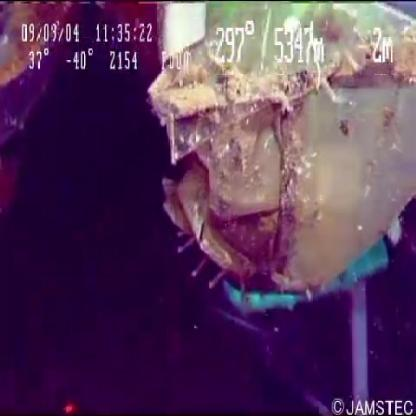Rác: (128, 1, 416, 306)
